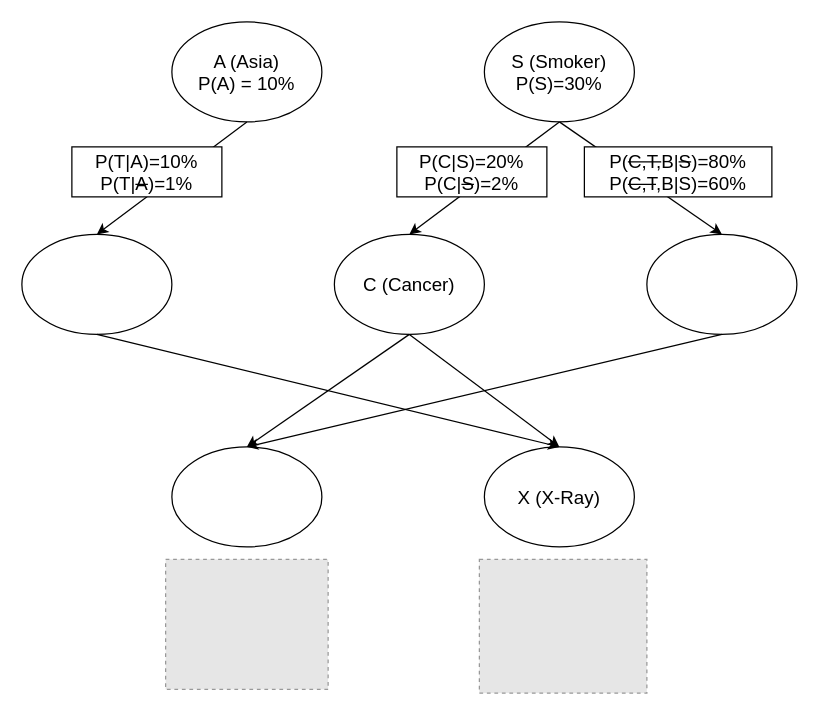
Some shapes in this 819 by 715 pixel diagram are drawn without their labels. Grey dashed boxes stand in for pictures. Each missing label, with the centre of its shape:
"B (Bronchitis)" goes at (x=721, y=283).
"ST (Stethoscope)" goes at (x=246, y=496).
"T (Tuberculosis)" goes at (x=96, y=283).
